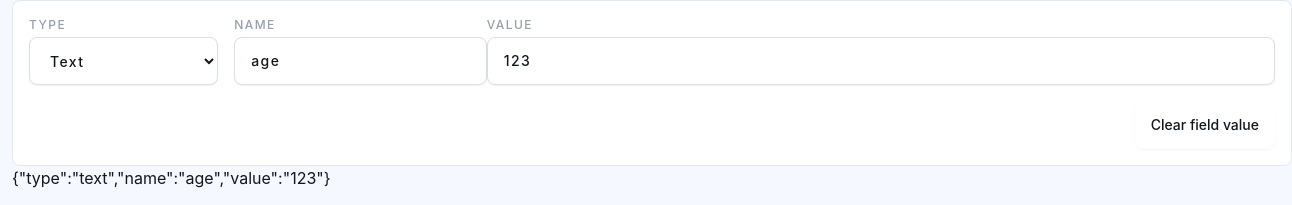
InputConstructor › switches input type and resets the value for number fields
Select "Number" in the dropdown. click: (124, 61)
box: 29,37 -> 218,85
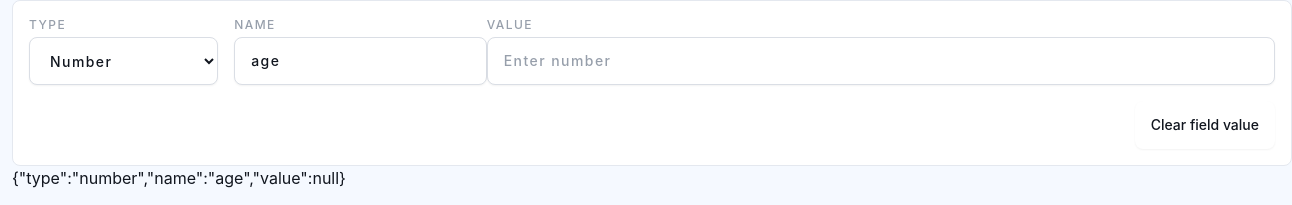
Result: the number field with placeholder "Enter number" is not empty at 487,37 -> 1275,85
Result: the text with test id "field-state" shows "\"type\":\"number\"" at 12,168 -> 346,188
Result: the text with test id "field-state" shows "\"value\":null" at 12,168 -> 346,188
